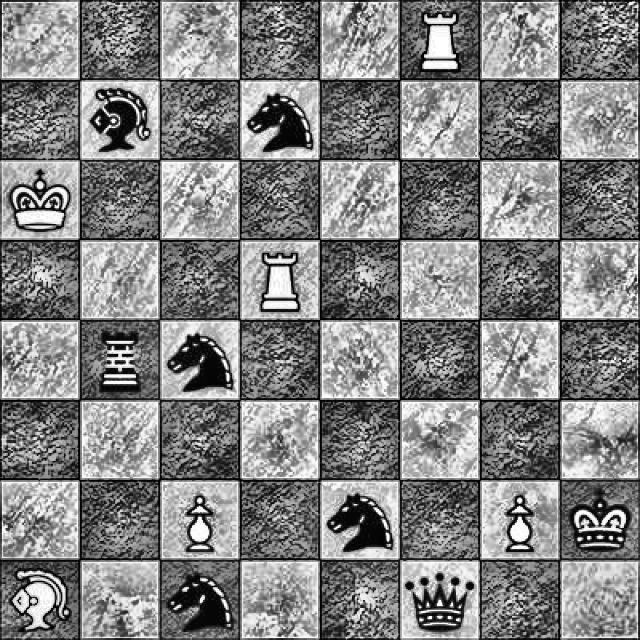Black Knight: (250, 81, 316, 153), (323, 488, 395, 554), (163, 327, 230, 393), (169, 570, 234, 636)
black bishop: (86, 81, 156, 157)
black king: (568, 483, 633, 553)
black queen: (398, 563, 482, 640)
black rook: (93, 324, 144, 394)
white bishop: (4, 564, 73, 634)
white king: (0, 158, 71, 238)
white pawn: (168, 490, 230, 555), (488, 491, 549, 556)
white rook: (253, 244, 306, 314), (415, 9, 463, 74)
